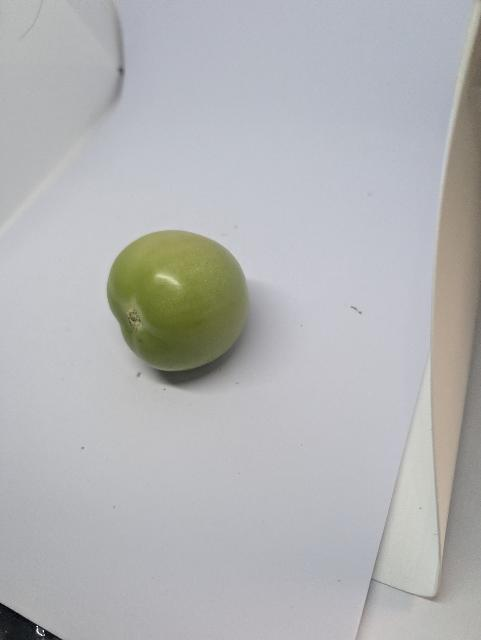green: (104, 227, 253, 374)
